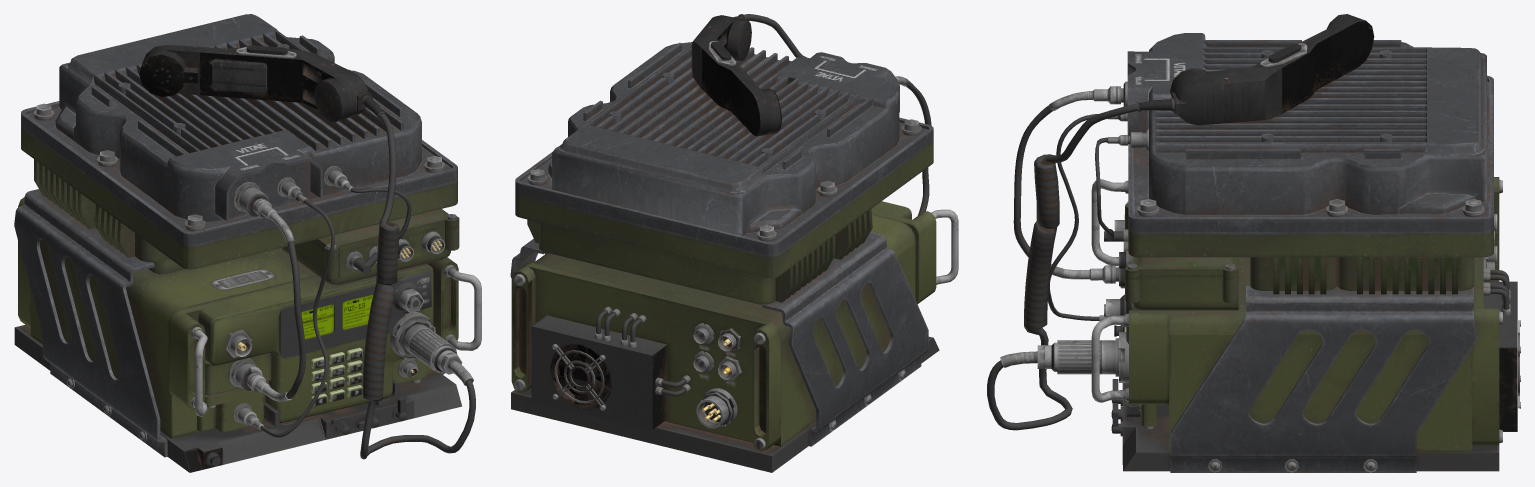
File: CB_Radio01.obj
The picture shows the model from 3 angles, left to right: view 1: azimuth 30°, elevation 25°; view 2: azimuth 150°, elevation 25°; view 3: azimuth 270°, elevation 25°; orthographic projection. The views are drawn at different scales.
Parts seen in each view (by area): view 1: SM_CBRadio_01; view 2: SM_CBRadio_01; view 3: SM_CBRadio_01.
Part boxes in pixels (<box>): SM_CBRadio_01: <box>14,14,481,472</box>; SM_CBRadio_01: <box>510,14,958,472</box>; SM_CBRadio_01: <box>987,14,1520,472</box>.
Bounding box in the file's own units: 48.13 × 52 × 70.49.
Materials: 1 (1 with a texture image).
